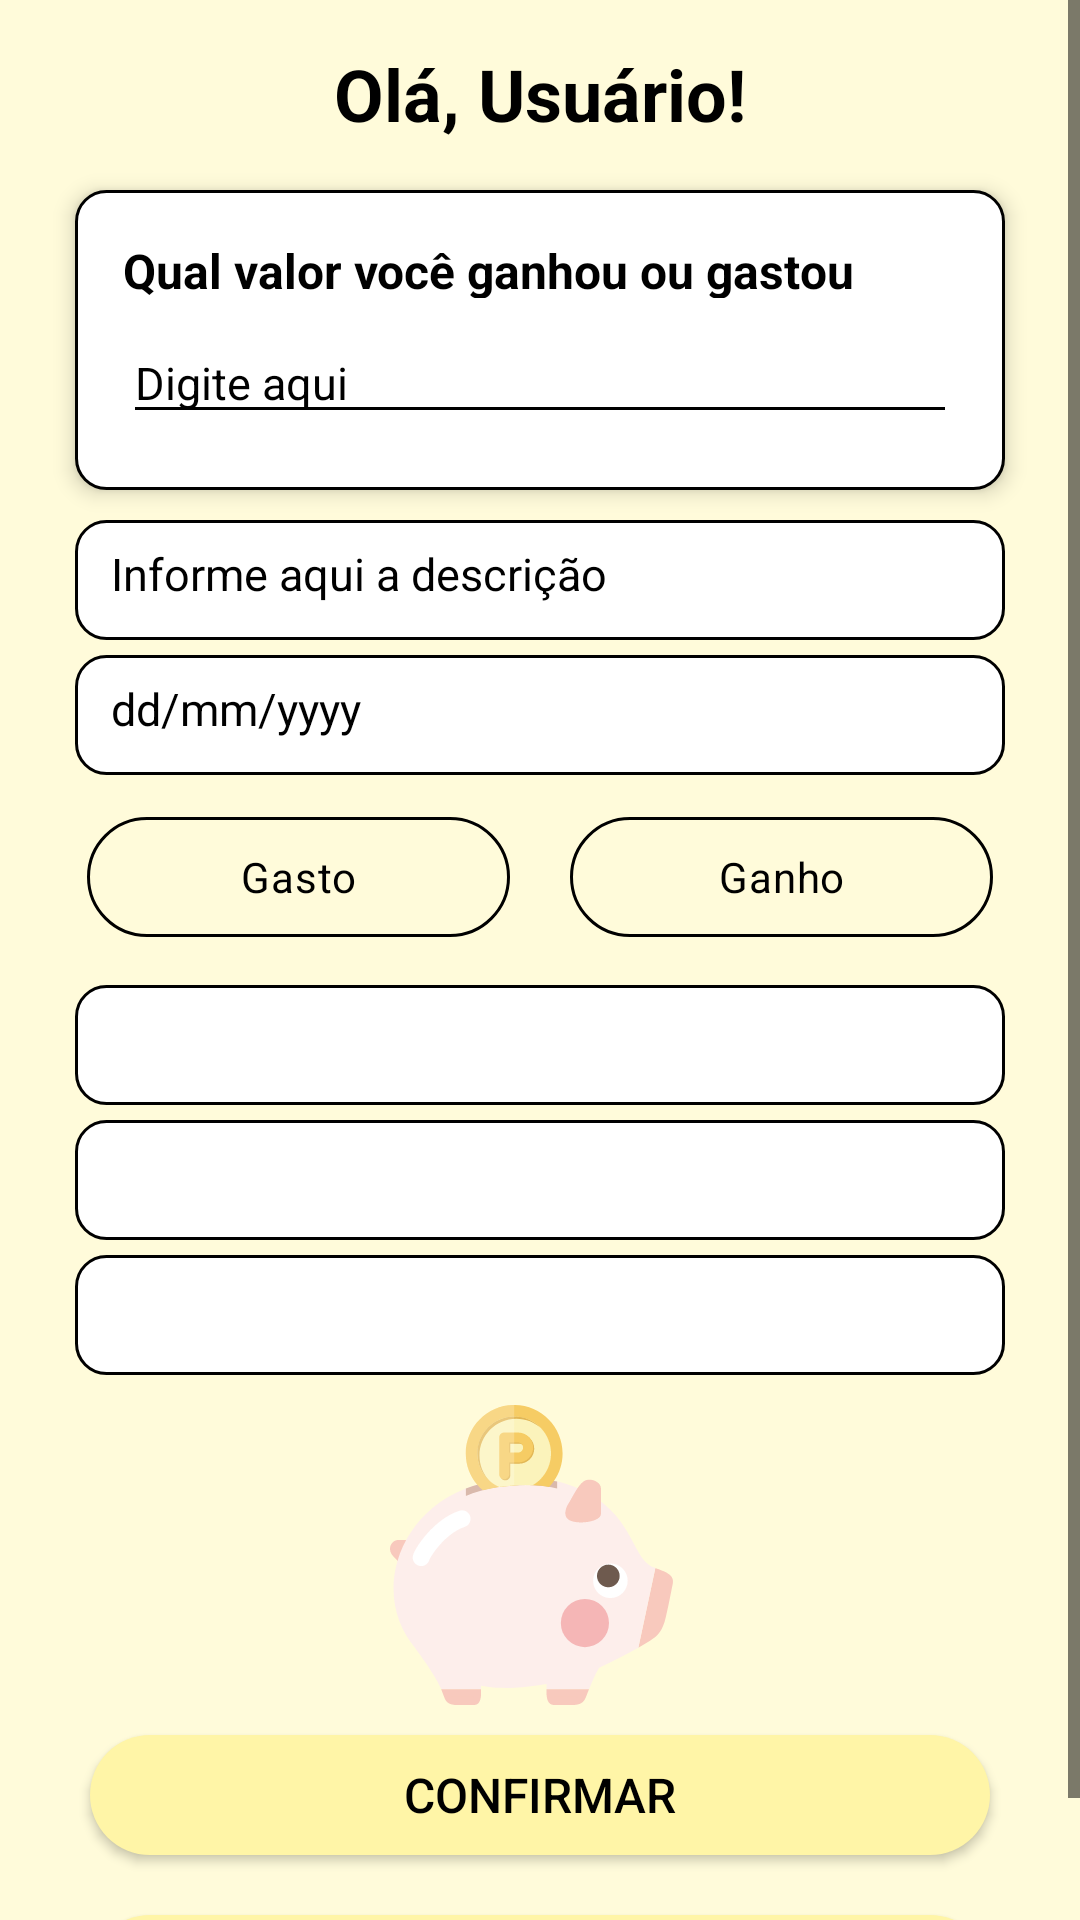

Named icons in this screenshot (1080px x 1920px) and their bounding boxes, (x1, y1, x2, y2):
pig bank: (390, 1405, 673, 1705)
